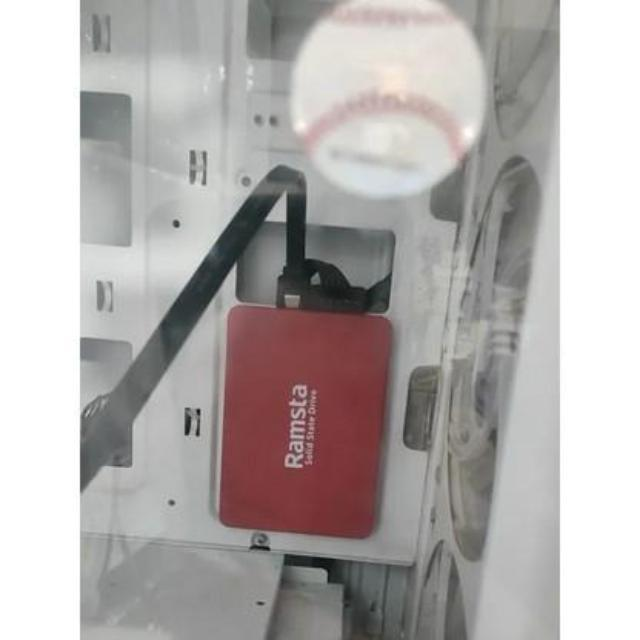DISK: (210, 297, 392, 548)
